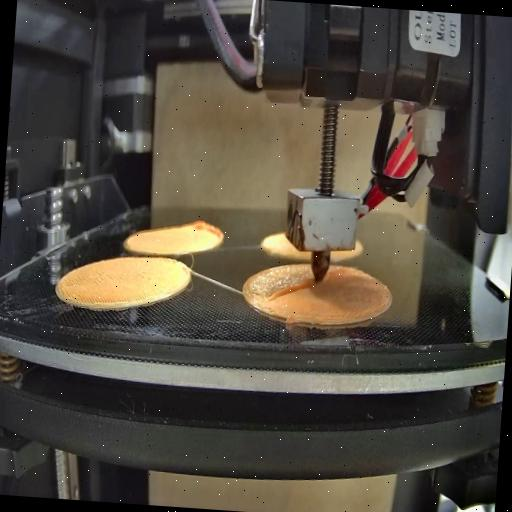over_extrusion: (188, 212, 230, 254), (264, 276, 312, 308)
